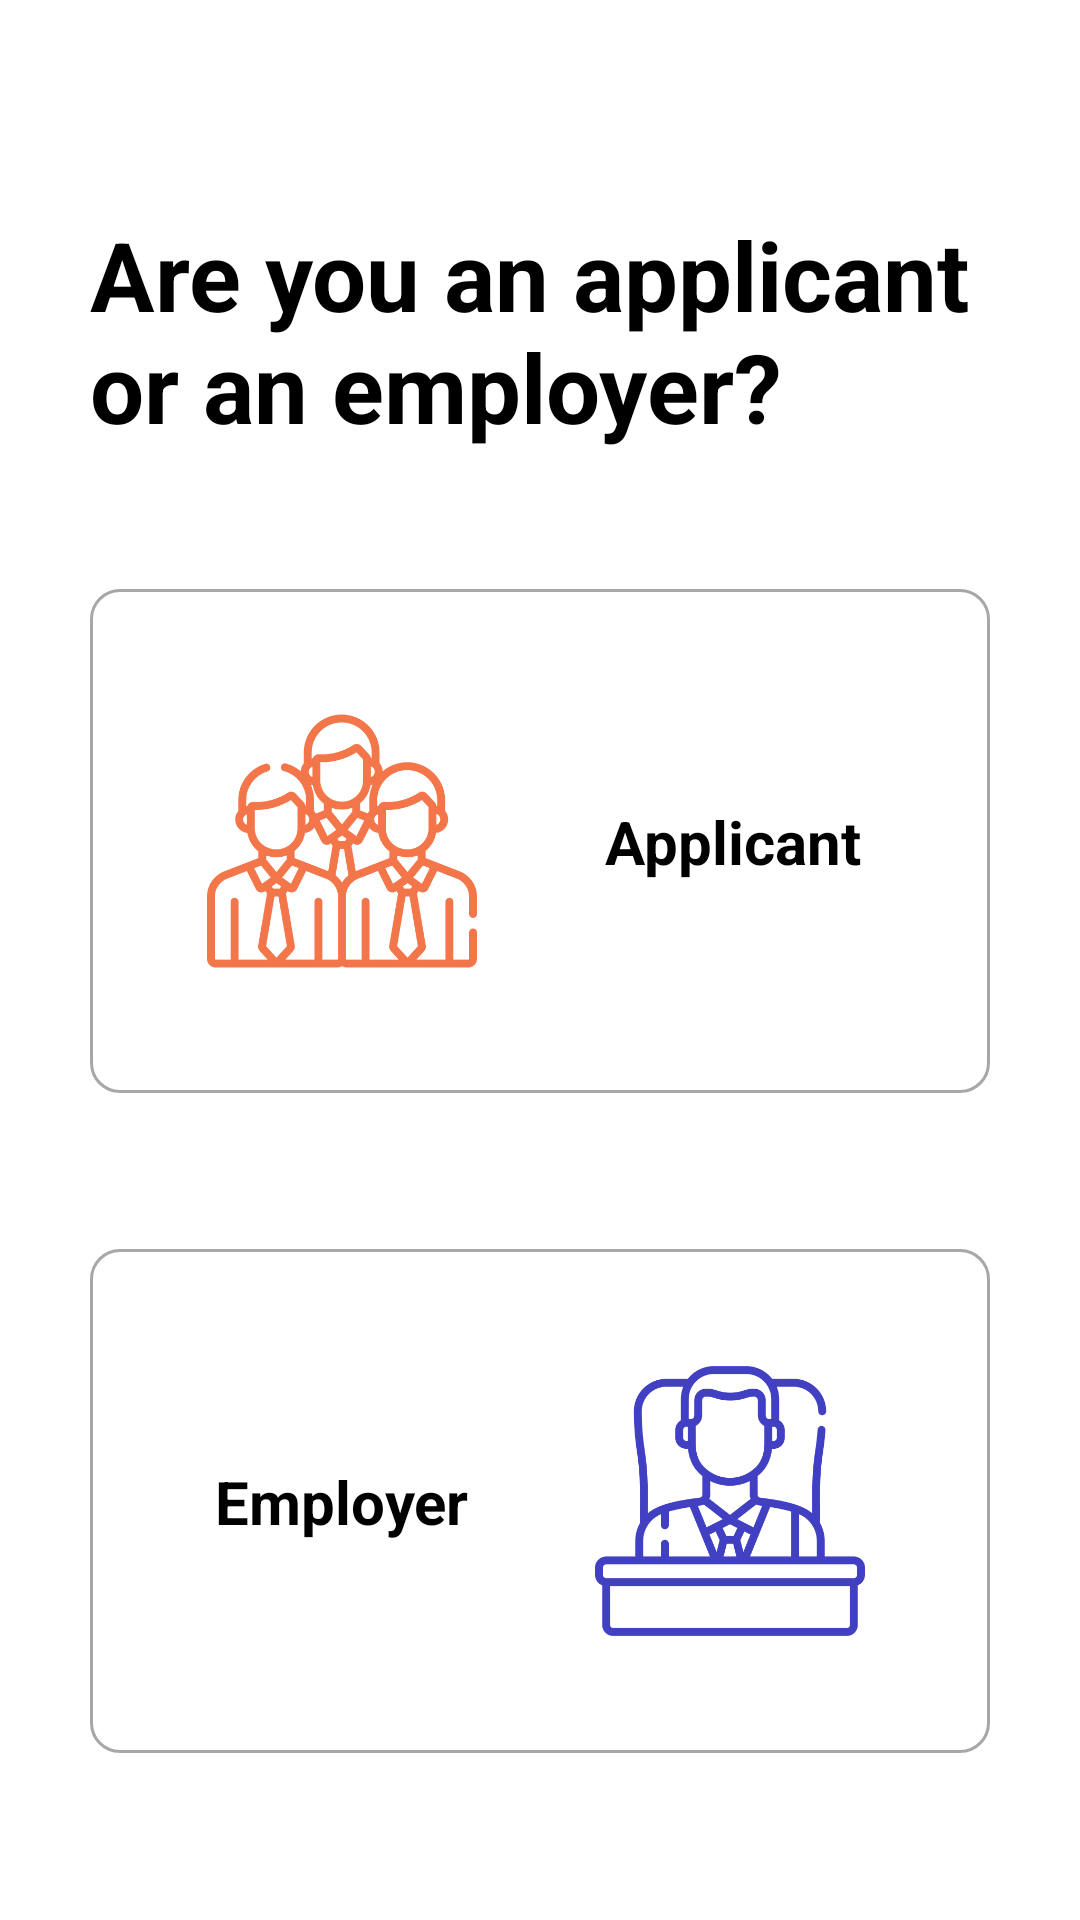

Named icons in this screenshot (1080*1920) and their centers, (x=x, y=y):
employee: (x=342, y=841)
